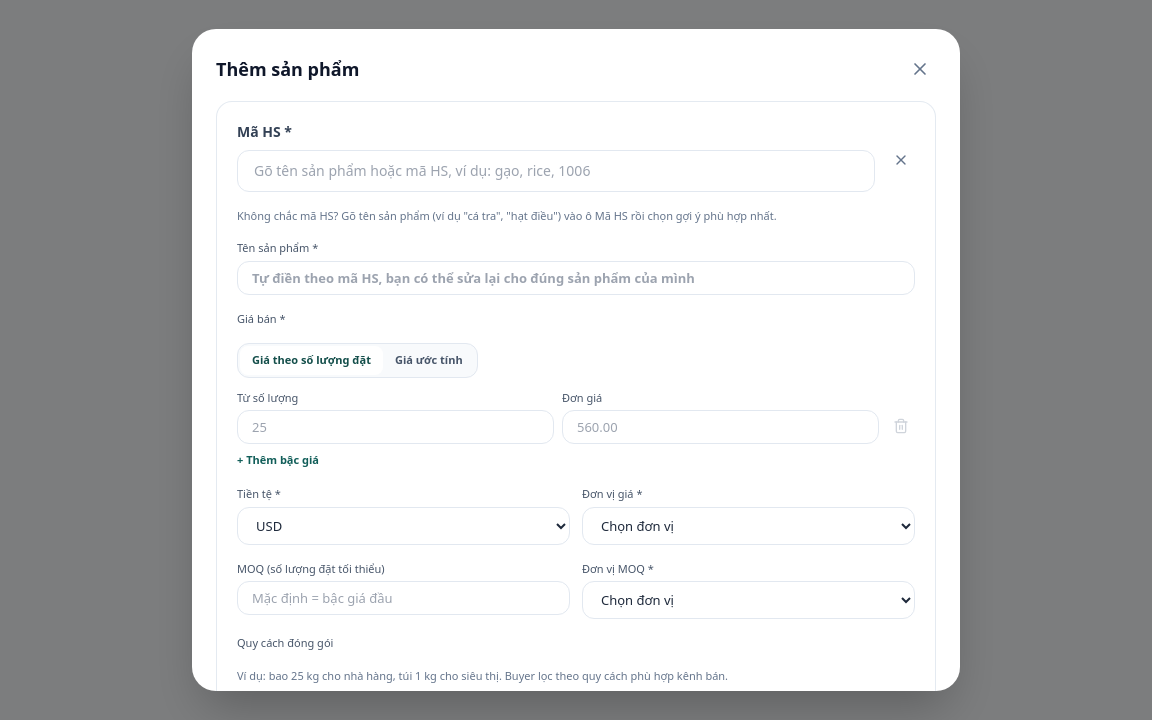
Test: ProductDialog + gợi ý mã HS theo tên (U3) › gõ tên "cá tra" → gợi ý mã HS; bấm gợi ý thì chọn mã, không đổi tên đã gõ
Replace the text in the field labelled "Tên sản phẩm *" with "Cá tra phi lê" at (576, 278), box x1=237 y1=261 x2=915 y2=295
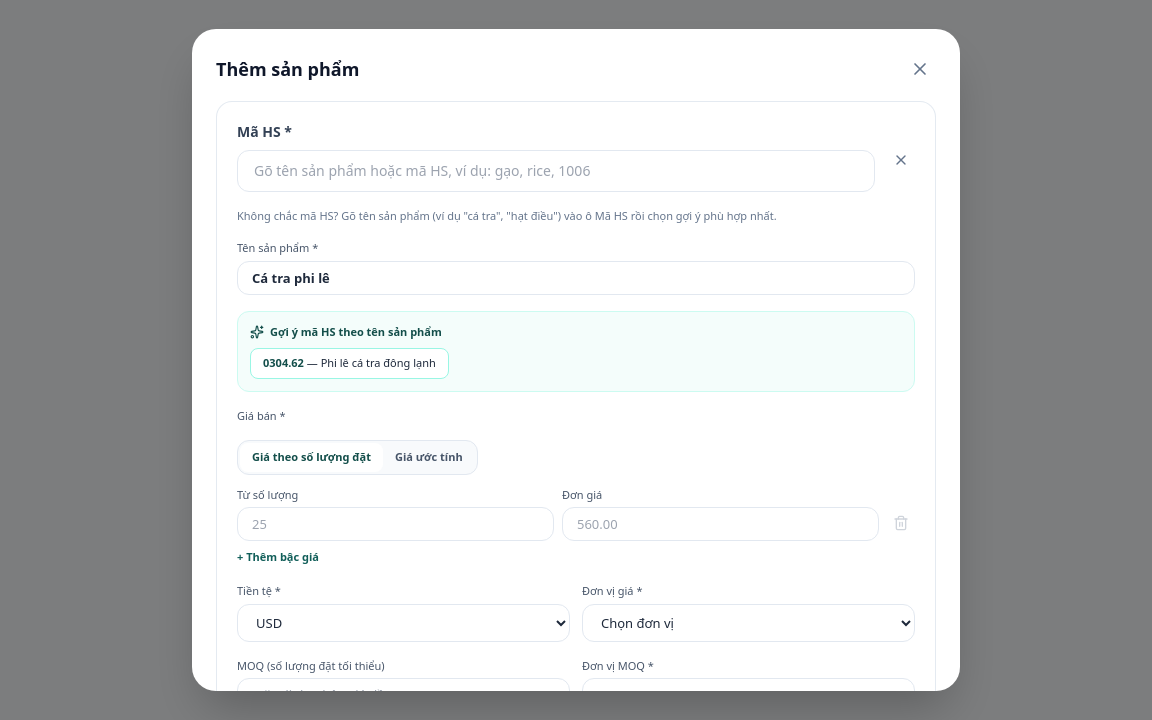
Click the button "0304.62 — Phi lê cá tra đông lạnh" at (349, 364), box x1=250 y1=348 x2=449 y2=379
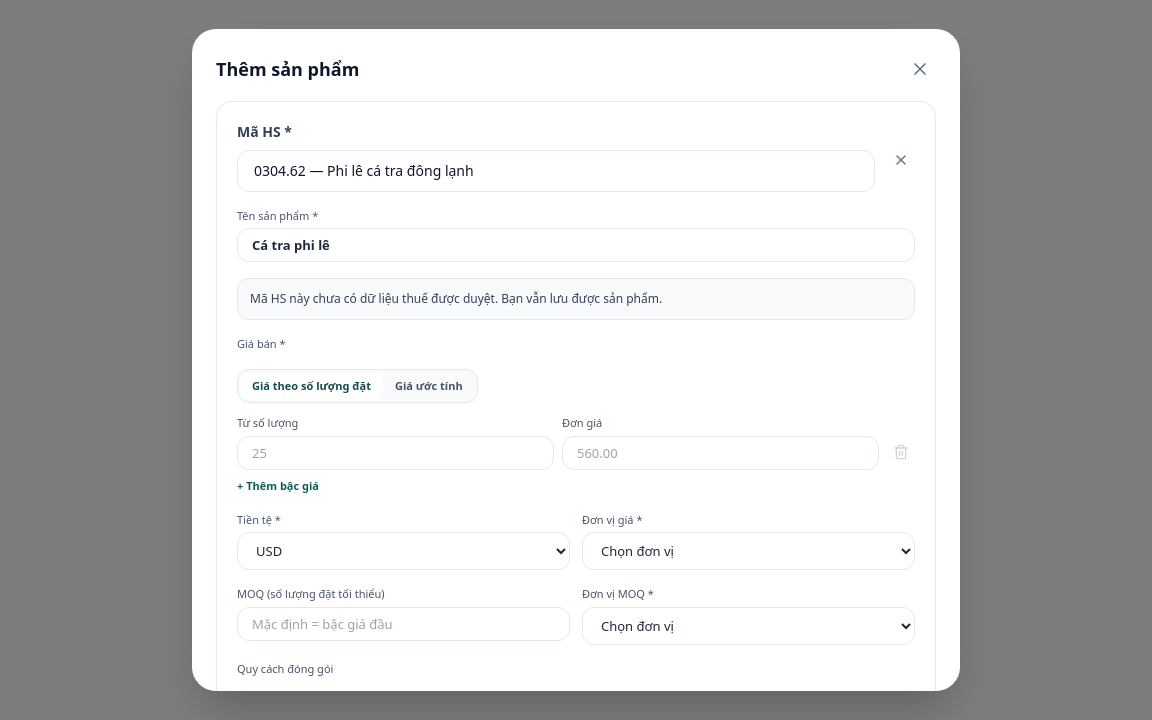
Now the dropdown labelled "Mã HS *" holds "0304.62 — Phi lê cá tra đông lạnh", box x1=237 y1=150 x2=875 y2=192
